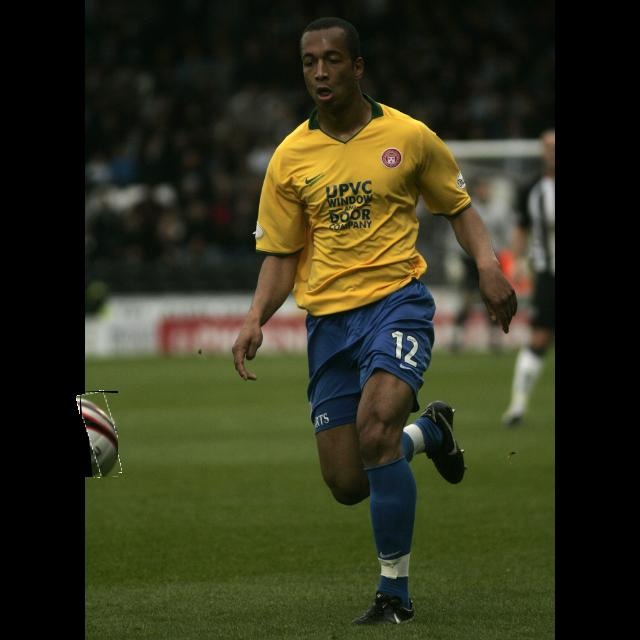Football: (80, 391, 118, 477)
